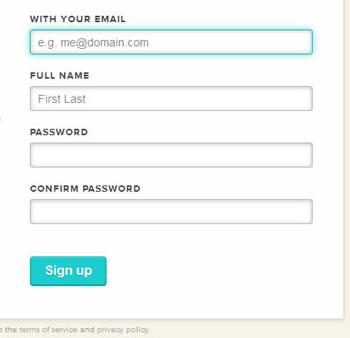button: (28, 255, 106, 286)
field: (26, 26, 314, 56), (27, 84, 313, 112), (28, 141, 313, 168), (29, 197, 313, 224)
field_with_label: (25, 13, 316, 57), (27, 127, 317, 170), (28, 183, 316, 226), (25, 71, 315, 113)
